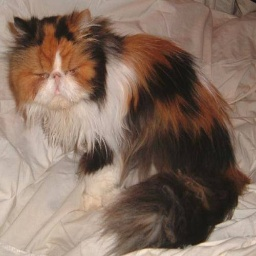cat: (4, 18, 247, 247)
